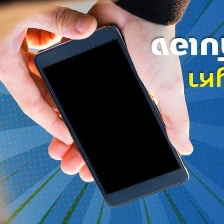phone: (27, 18, 193, 209)
